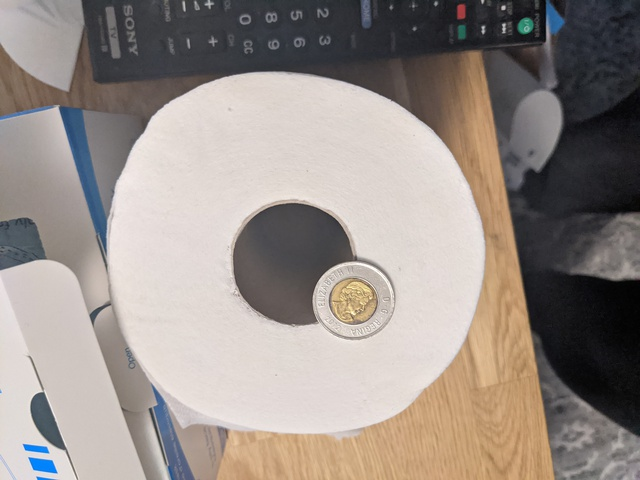twonie: (308, 256, 401, 342)
